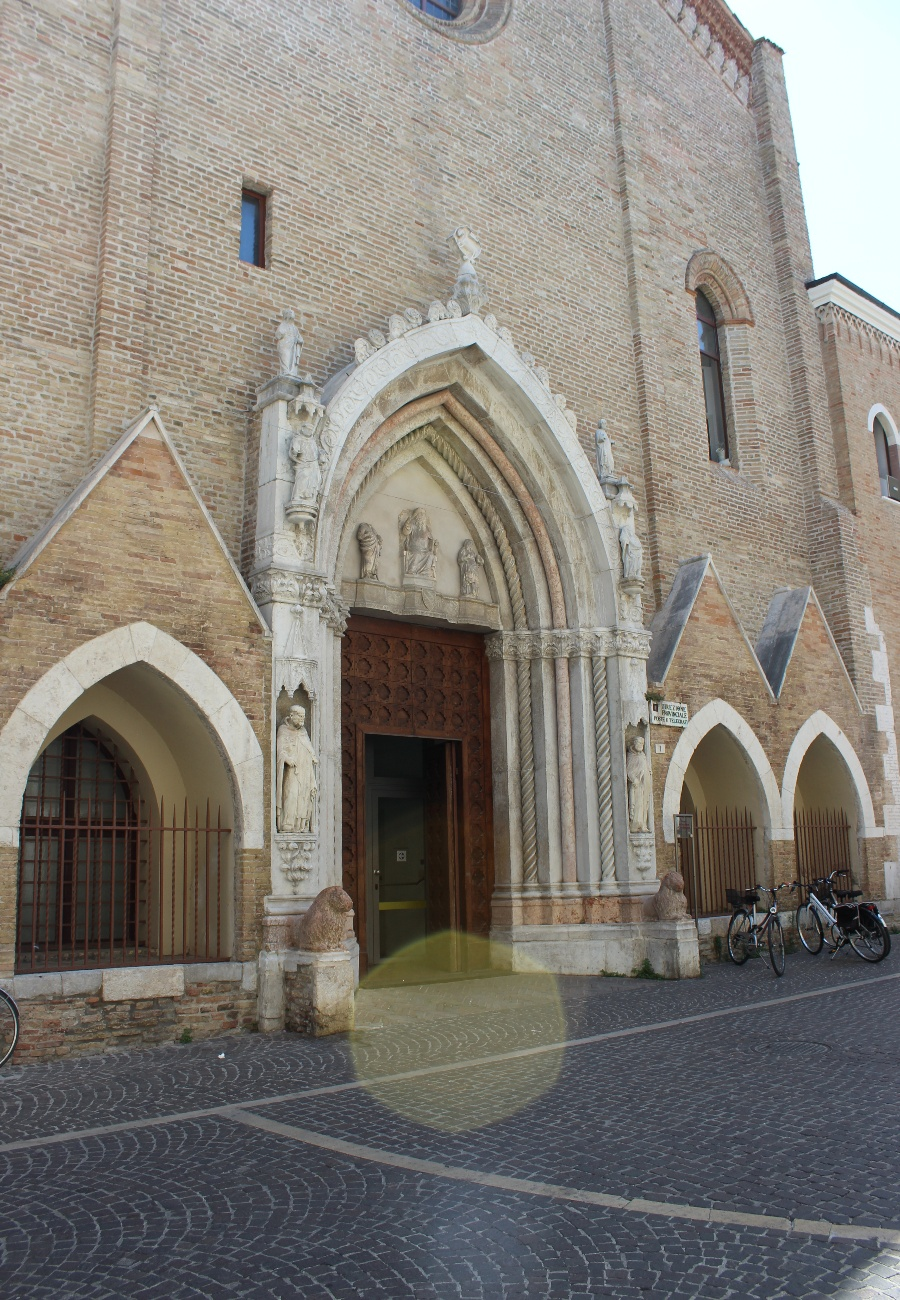Portale San Domenico: (256, 225, 699, 1011)
